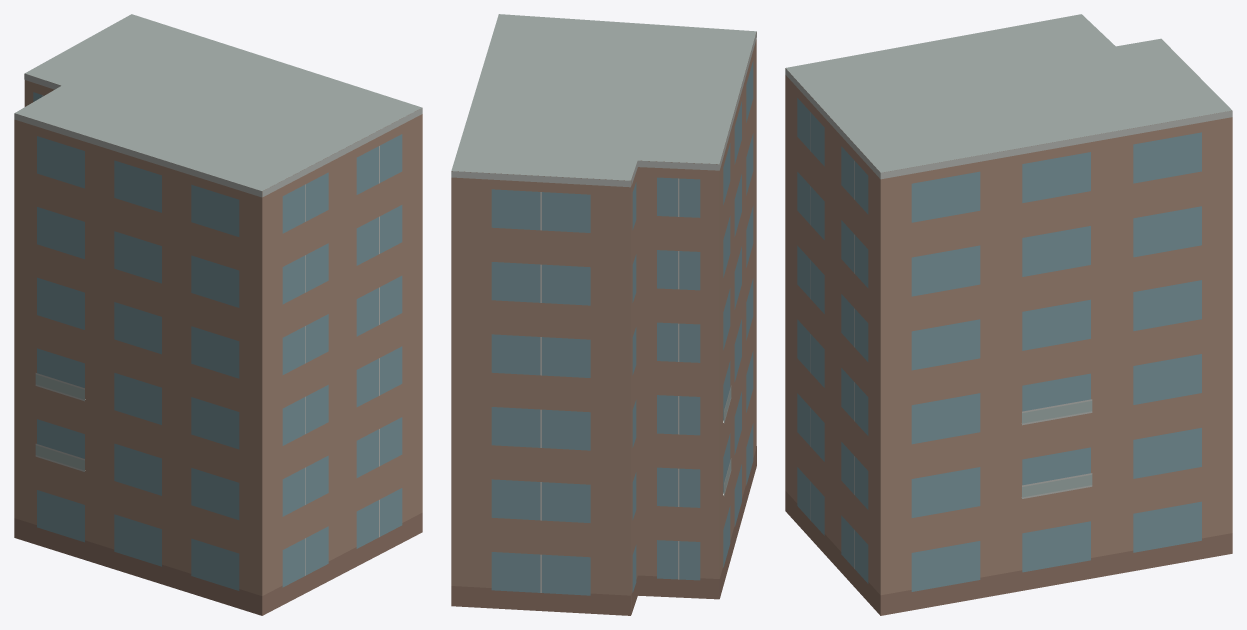
The model's file is survey-upis-32866128.glb.
3 views of the same model, side by side, from view 1: azimuth 30°, elevation 25°; view 2: azimuth 150°, elevation 25°; view 3: azimuth 270°, elevation 25° (orthographic). The views are drawn at different scales.
Visible parts, largest first — view 1: survey-upis-32866128.tmp; view 2: survey-upis-32866128.tmp; view 3: survey-upis-32866128.tmp.
Boxes of the visible parts, x1,y1,x2,y2 form: survey-upis-32866128.tmp: (14,14,422,615); survey-upis-32866128.tmp: (451,14,756,615); survey-upis-32866128.tmp: (785,14,1232,615).
Size of the model in its own units: 12.61 by 16.4 by 15.01.
